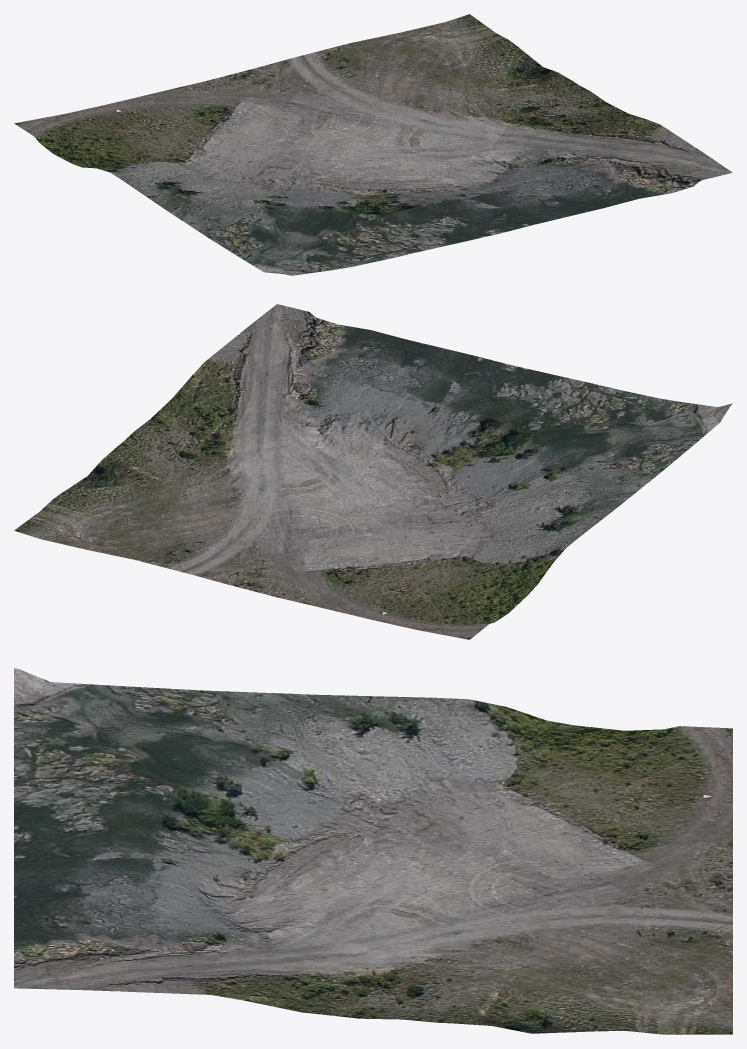
The model's file is map_15_8177_13779.dae.
3 views of the same model, one above another, from view 1: azimuth 30°, elevation 25°; view 2: azimuth 150°, elevation 25°; view 3: azimuth 270°, elevation 25° (orthographic). The views are drawn at different scales.
Visible parts, largest first — view 1: Ter0; view 2: Ter0; view 3: Ter0.
Part boxes in pixels (left/top/right/bottom): Ter0: left=14, top=14, right=732, bottom=275; Ter0: left=14, top=304, right=732, bottom=639; Ter0: left=14, top=668, right=732, bottom=1034.
Size of the model in its own units: 63.87 by 63.88 by 6.56.
3 materials, 3 textured.
